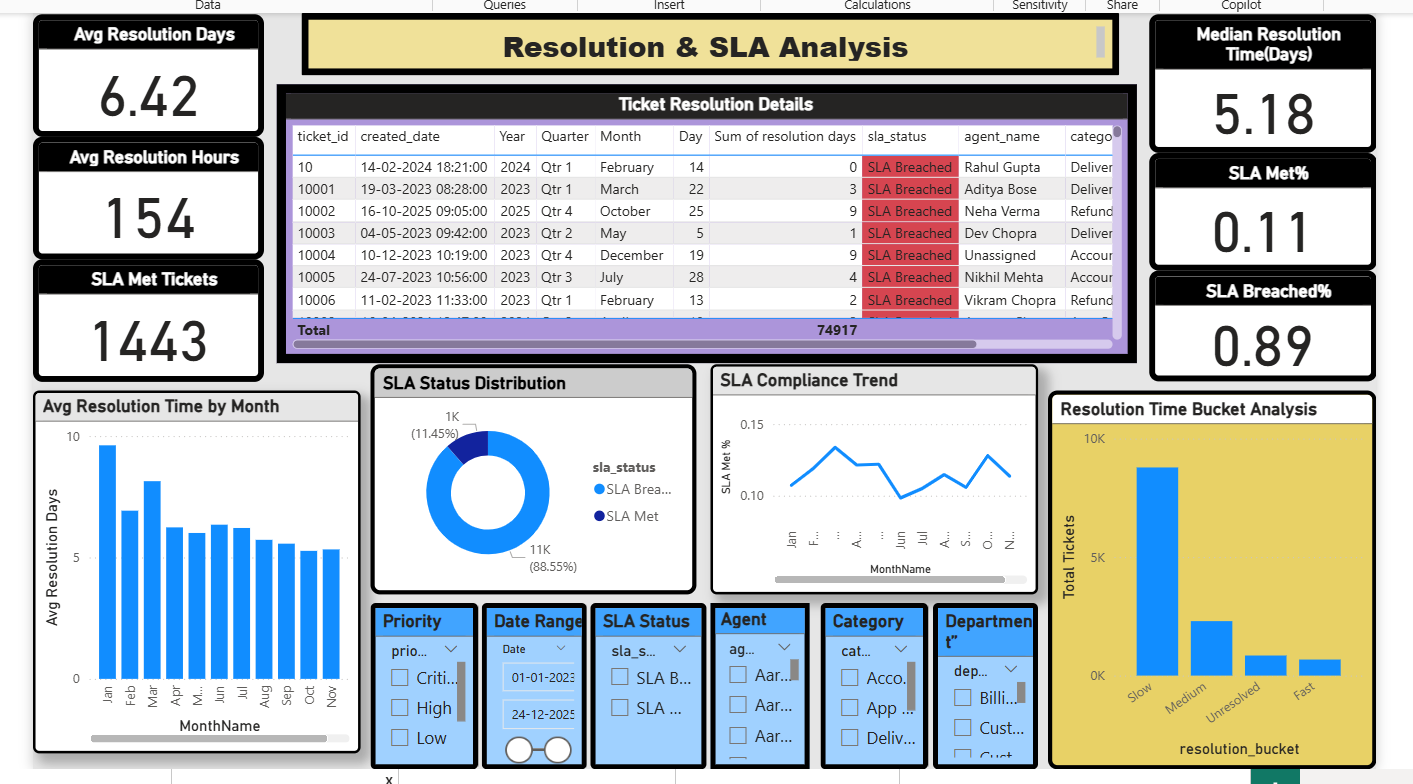

What the dashboard file says about the page in this screenshot:
{"tool":"powerbi","page":{"name":"Resolution & SLA Analysis","canvas":[1280,720],"ordinal":1},"visuals":[{"type":"textbox","box":[256,0,778.6,59.5],"z":0},{"type":"card","title":"Avg Resolution Days","fields":{"Values":["all_measures.Avg Resolution Days"]},"box":[0,1.2,220.2,116.7],"z":1000},{"type":"card","title":"Avg Resolution Hours","fields":{"Values":["all_measures.Avg Resolution Hours"]},"box":[0,117.9,220.2,116.7],"z":2000},{"type":"card","title":"Median Resolution Time(Days)","fields":{"Values":["all_measures.Median Resolution Days"]},"box":[1063.1,1.2,216.7,132.1],"z":3000},{"type":"card","title":"SLA Met%","fields":{"Values":["all_measures.SLA Met %"]},"box":[1063.1,133.3,216.7,111.9],"z":4000},{"type":"card","title":"SLA Breached%","fields":{"Values":["all_measures.SLA Breached %"]},"box":[1063.1,245.2,216.7,106],"z":5000},{"type":"card","title":"SLA Met Tickets","fields":{"Values":["all_measures.SLA Met Tickets"]},"box":[0,234.5,220.2,116.7],"z":6000},{"type":"lineChart","title":"SLA Compliance Trend","fields":{"Category":["DateTable.MonthName"],"Y":["all_measures.SLA Met %"]},"box":[645.2,334.5,311.9,219],"z":7000},{"type":"clusteredColumnChart","title":"Avg Resolution Time by Month","fields":{"Category":["DateTable.MonthName"],"Y":["all_measures.Avg Resolution Days"]},"box":[0,359.5,311.9,345.2],"z":8000},{"type":"donutChart","title":"SLA Status Distribution","fields":{"Category":["tickets.sla_status"],"Y":["all_measures.Total Tickets"]},"box":[321.4,334.5,310.7,219],"z":9000},{"type":"clusteredColumnChart","title":"Resolution Time Bucket Analysis","fields":{"Category":["tickets.resoluction_bucket"],"Y":["all_measures.Total Tickets"]},"box":[966.7,359.5,313.1,360.7],"z":10000},{"type":"tableEx","title":"Ticket Resolution Details","fields":{"Values":["tickets.ticket_id","tickets.created_date","tickets.resolved_date.Variation.Date Hierarchy.Year","tickets.resolved_date.Variation.Date Hierarchy.Quarter","tickets.resolved_date.Variation.Date Hierarchy.Month","tickets.resolved_date.Variation.Date Hierarchy.Day","Sum(tickets.resolution days)","tickets.sla_status","agents.agent_name","ticket_category.category_name","tickets.priority"]},"box":[232.1,67.9,819.1,265.5],"z":11000},{"type":"slicer","title":"Date Range","fields":{"Values":["DateTable.Date"]},"box":[427.4,561.9,100,158.3],"z":12000},{"type":"slicer","title":"Agent","fields":{"Values":["tickets.agents.agent_name"]},"box":[645.2,561.9,94,158.3],"z":13000},{"type":"slicer","title":"Category","fields":{"Values":["ticket_category.category_name"]},"box":[750,561.9,102.4,158.3],"z":14000},{"type":"slicer","title":"Priority","fields":{"Values":["tickets.priority"]},"box":[321.4,561.9,102.4,158.3],"z":15000},{"type":"slicer","title":"SLA Status","fields":{"Values":["tickets.sla_status"]},"box":[531,561.9,110.7,158.3],"z":16000},{"type":"slicer","title":"Department”","fields":{"Values":["departments.department_name"]},"box":[857.1,561.9,100,158.3],"z":17000}]}

Visuals, with their boxes in screenshot pixels (x1, y1, x2, y2):
textbox: <region>309, 11, 1115, 73</region>
"Avg Resolution Days" card: <region>44, 12, 272, 133</region>
"Avg Resolution Hours" card: <region>44, 133, 272, 254</region>
"Median Resolution Time(Days)" card: <region>1145, 12, 1369, 149</region>
"SLA Met%" card: <region>1145, 149, 1369, 265</region>
"SLA Breached%" card: <region>1145, 265, 1369, 375</region>
"SLA Met Tickets" card: <region>44, 254, 272, 375</region>
"SLA Compliance Trend" lineChart: <region>712, 357, 1035, 584</region>
"Avg Resolution Time by Month" clusteredColumnChart: <region>44, 383, 367, 741</region>
"SLA Status Distribution" donutChart: <region>377, 357, 699, 584</region>
"Resolution Time Bucket Analysis" clusteredColumnChart: <region>1045, 383, 1369, 757</region>
"Ticket Resolution Details" tableEx: <region>284, 81, 1133, 356</region>
"Date Range" slicer: <region>487, 593, 590, 757</region>
"Agent" slicer: <region>712, 593, 810, 757</region>
"Category" slicer: <region>821, 593, 927, 757</region>
"Priority" slicer: <region>377, 593, 483, 757</region>
"SLA Status" slicer: <region>594, 593, 709, 757</region>
"Department”" slicer: <region>932, 593, 1035, 757</region>
